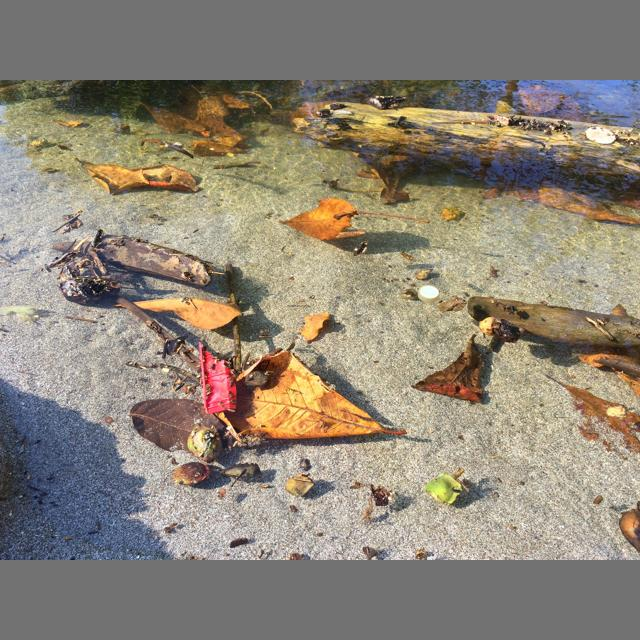litter: (199, 342, 236, 414), (418, 285, 439, 303)
